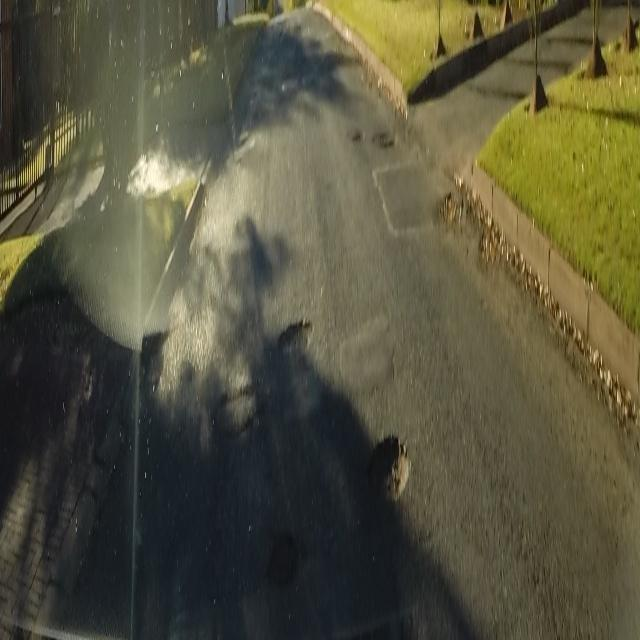pothole: (366, 422, 411, 507), (342, 122, 402, 153), (276, 316, 314, 352), (434, 185, 464, 227)
